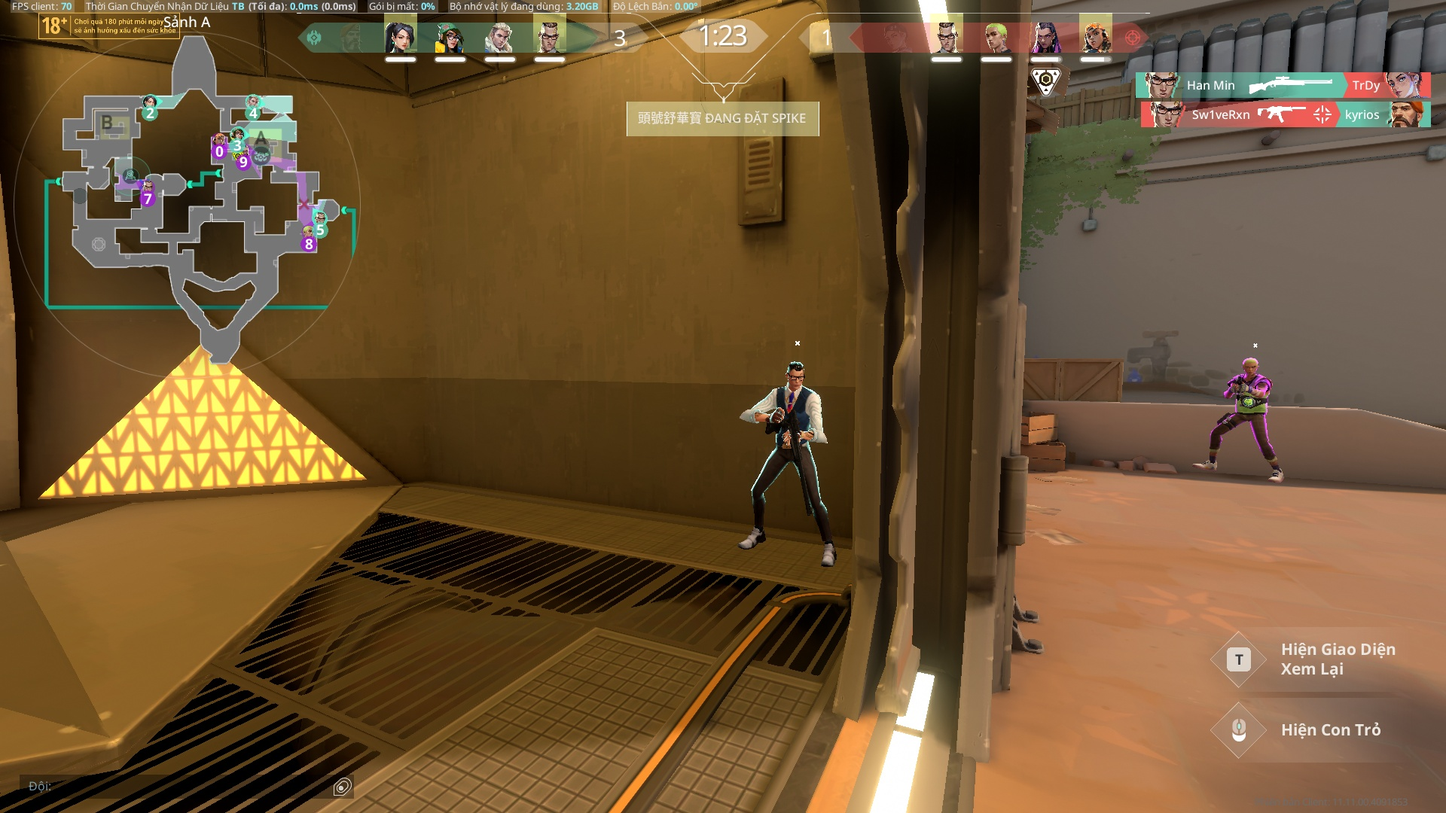body: (1231, 371, 1274, 414)
head: (1240, 355, 1262, 376)
